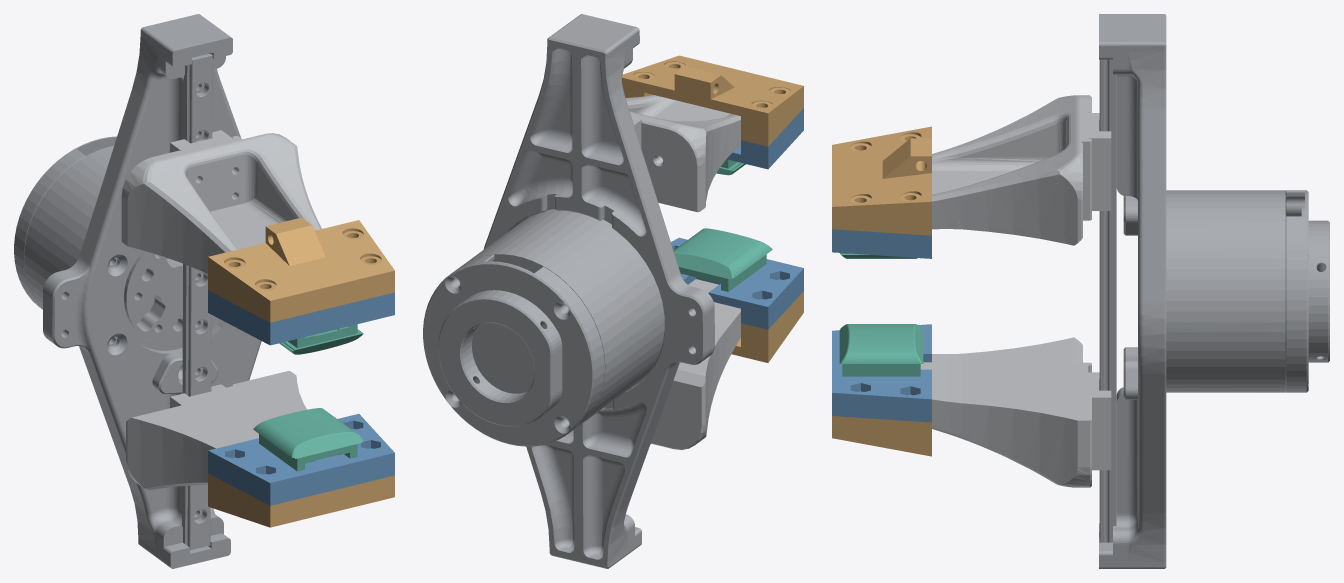
The model's file is piper_dual_m2324-v2_assembly_open50.glb.
The picture shows the model from 3 angles, left to right: view 1: azimuth 30°, elevation 25°; view 2: azimuth 150°, elevation 25°; view 3: azimuth 270°, elevation 25°; orthographic projection. The views are drawn at different scales.
Visible parts, largest first — view 1: gripper_base, finger_2, outer_roof_2, finger_1, inner_plate_1, outer_roof_1, inner_plate_2, m2324_sensor_1, m2324_sensor_2; view 2: gripper_base, finger_2, outer_roof_2, finger_1, m2324_sensor_1, inner_plate_1, outer_roof_1, inner_plate_2; view 3: gripper_base, finger_1, finger_2, outer_roof_2, inner_plate_1, m2324_sensor_1, outer_roof_1, inner_plate_2.
Part boxes in pixels (x1,y1,x2,y2): gripper_base: (14,14,261,568); finger_2: (121,130,321,273); outer_roof_2: (208,217,394,322); finger_1: (126,371,306,489); inner_plate_1: (208,414,394,505); outer_roof_1: (208,473,394,527); inner_plate_2: (208,290,394,345); m2324_sensor_1: (253,408,363,471); m2324_sensor_2: (279,324,363,354); gripper_base: (423,14,714,568); finger_2: (625,95,740,212); outer_roof_2: (622,55,803,146); finger_1: (650,279,740,449); m2324_sensor_1: (673,228,772,291); inner_plate_1: (671,237,803,329); outer_roof_1: (731,291,803,362); inner_plate_2: (727,108,803,169); gripper_base: (1099,14,1329,568); finger_1: (920,337,1111,487); finger_2: (932,95,1111,245); outer_roof_2: (832,126,931,235); inner_plate_1: (832,324,931,422); m2324_sensor_1: (839,324,923,376); outer_roof_1: (832,416,931,456); inner_plate_2: (832,229,931,258).
Size of the model in its own units: 0.075 by 0.1641 by 0.1401.
